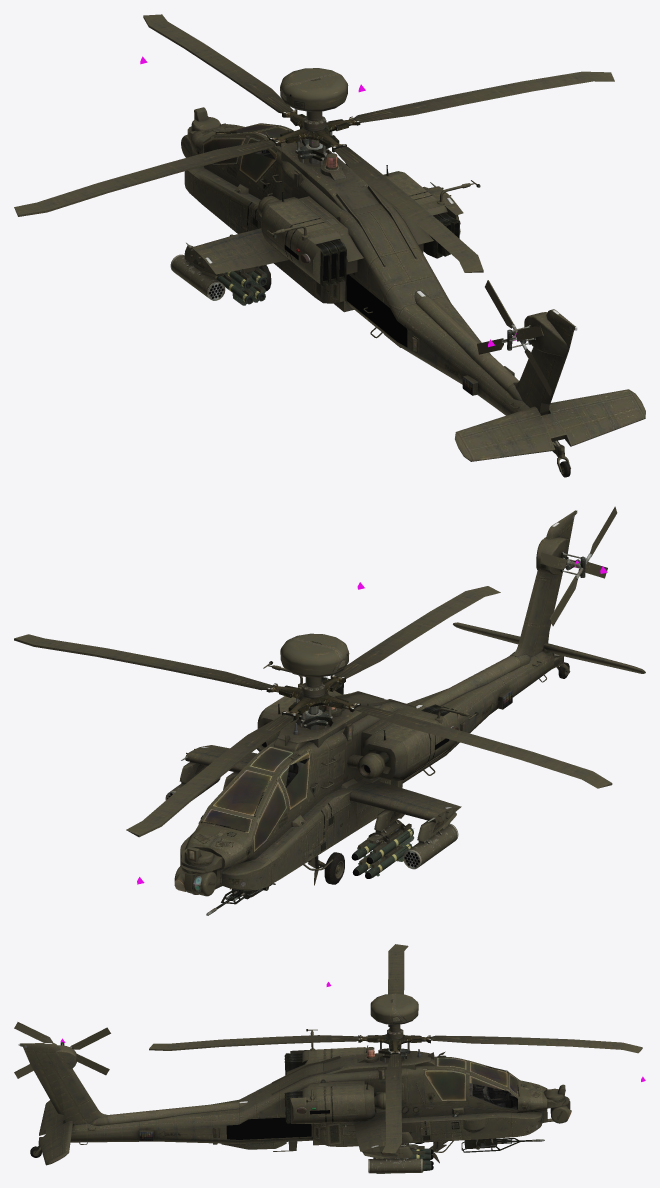
Rendered from heli.glb.
The picture shows the model from 3 angles, top to bottom: view 1: azimuth 30°, elevation 25°; view 2: azimuth 150°, elevation 25°; view 3: azimuth 270°, elevation 25°; orthographic projection. The views are drawn at different scales.
Parts seen in each view (by area): view 1: Body_7, Rotor_1, Body_6, Body_2, Body_1, Body_5, TailRotor_1; view 2: Body_7, Rotor_1, Body_6, Body_2, Body_5, TailRotor_1, Body_8; view 3: Body_7, Rotor_1, Body_6, Body_2, Body_1, TailRotor_1.
Part boxes in pixels (x1=…): Body_7: x1=181, y1=107, x2=645, y2=477; Rotor_1: x1=14, y1=14, x2=614, y2=272; Body_6: x1=170, y1=68, x2=460, y2=300; Body_2: x1=203, y1=124, x2=460, y2=263; Body_1: x1=346, y1=274, x2=407, y2=347; Body_5: x1=215, y1=268, x2=267, y2=305; TailRotor_1: x1=485, y1=280, x2=543, y2=350; Body_7: x1=174, y1=510, x2=645, y2=915; Rotor_1: x1=14, y1=586, x2=612, y2=837; Body_6: x1=165, y1=633, x2=458, y2=869; Body_2: x1=203, y1=726, x2=458, y2=851; Body_5: x1=202, y1=815, x2=414, y2=878; TailRotor_1: x1=540, y1=506, x2=617, y2=579; Body_8: x1=303, y1=852, x2=344, y2=885; Body_7: x1=14, y1=1029, x2=571, y2=1165; Rotor_1: x1=149, y1=944, x2=642, y2=1154; Body_6: x1=362, y1=993, x2=517, y2=1173; Body_2: x1=297, y1=1058, x2=517, y2=1113; Body_1: x1=226, y1=1117, x2=311, y2=1139; TailRotor_1: x1=14, y1=1022, x2=110, y2=1049.
Size of the model in its own units: 23.5 by 9.25 by 30.15.
8 materials, 7 textured.
